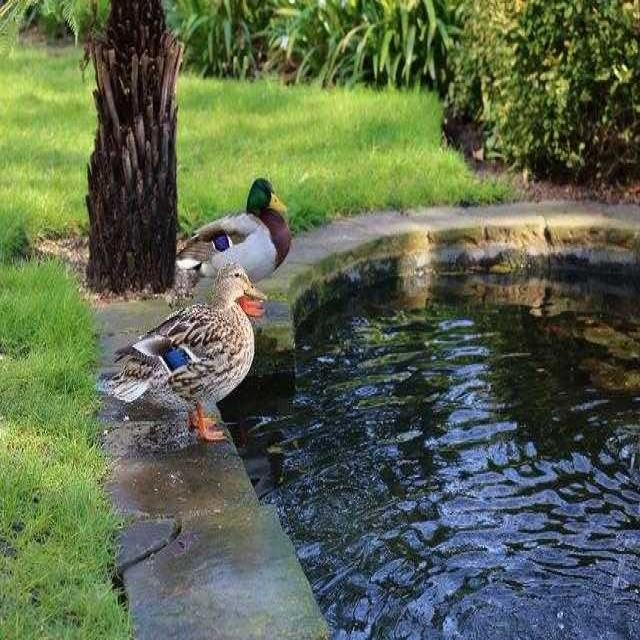Ponds: (105, 201, 640, 640)
